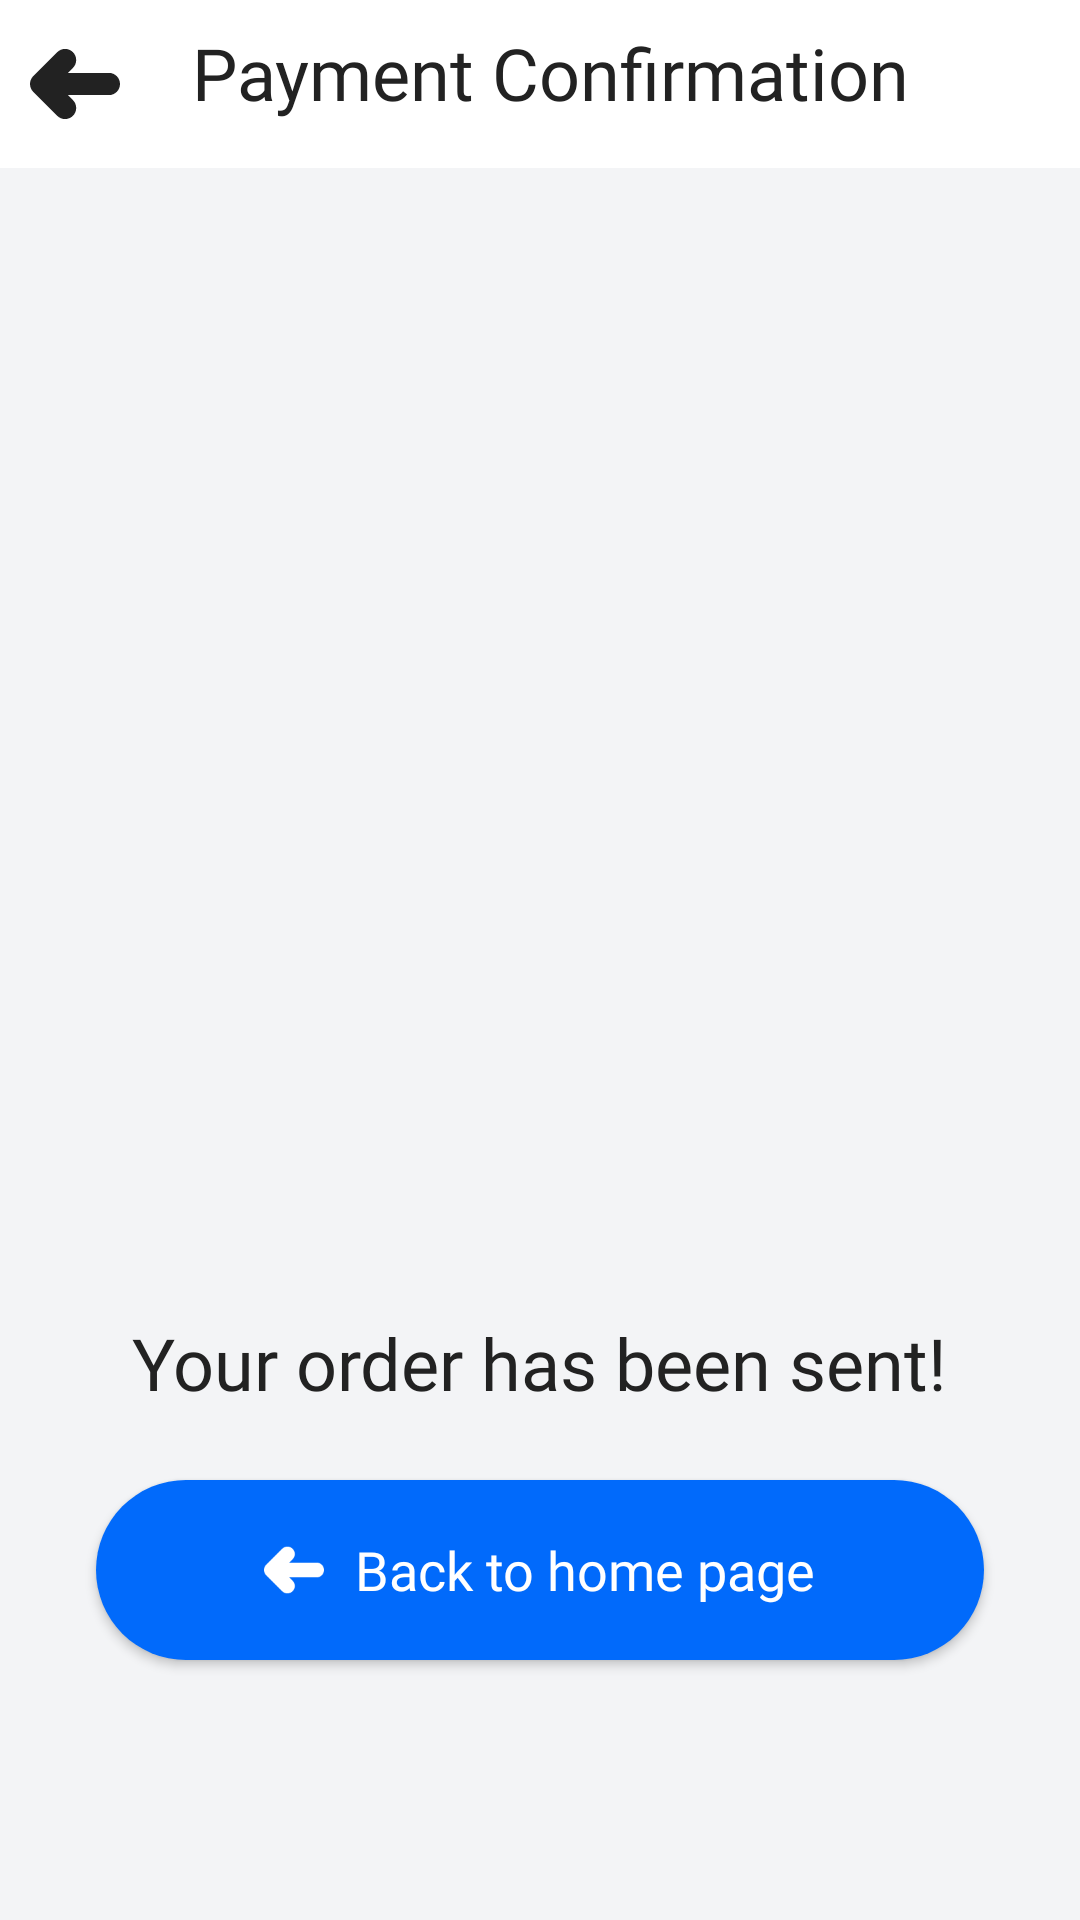

Point at icon controls on the screen. Image size 1080×1920, points as [x,y].
Back Button: [75,84]
